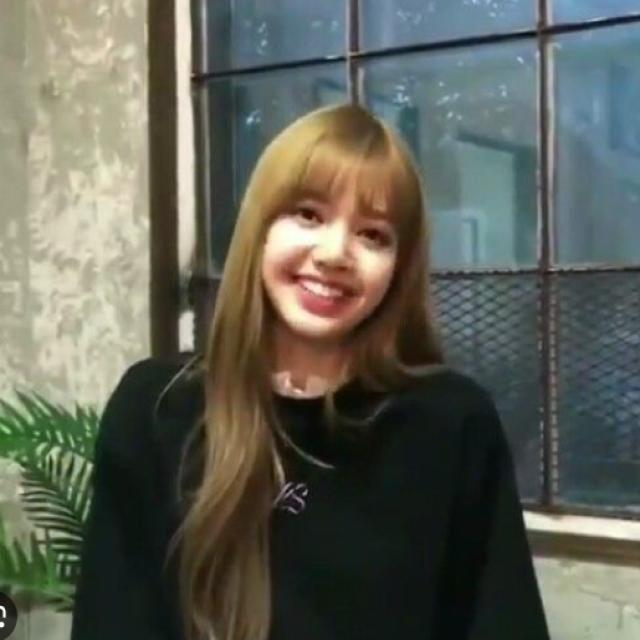face_no_mask: (259, 162, 396, 340)
